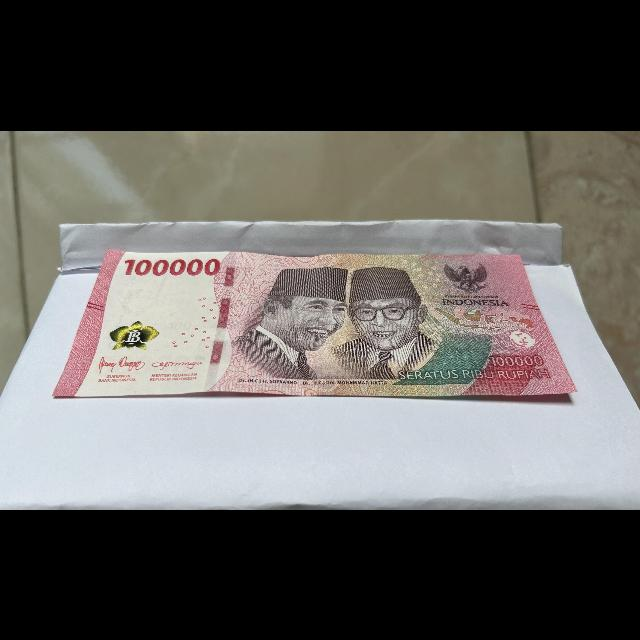Asli-100k: (47, 244, 582, 398)
Tinta-Asli-100k: (103, 318, 162, 352)
